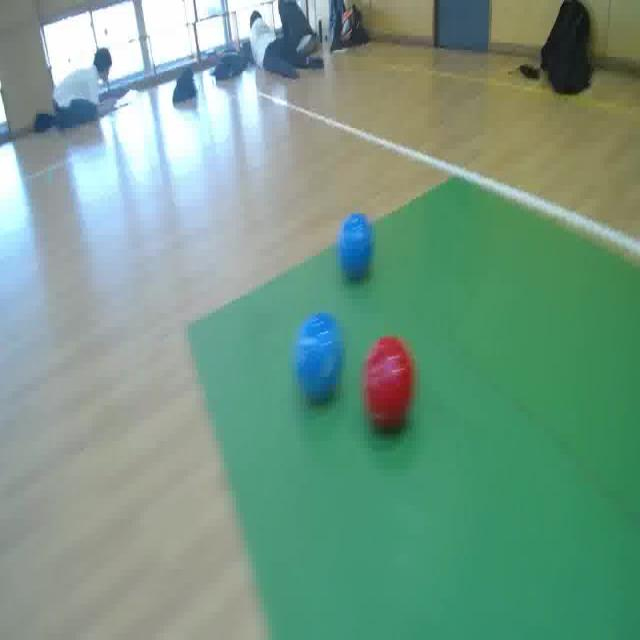blue_ball: (292, 309, 348, 404), (333, 207, 374, 287)
red_ball: (359, 330, 419, 432)
